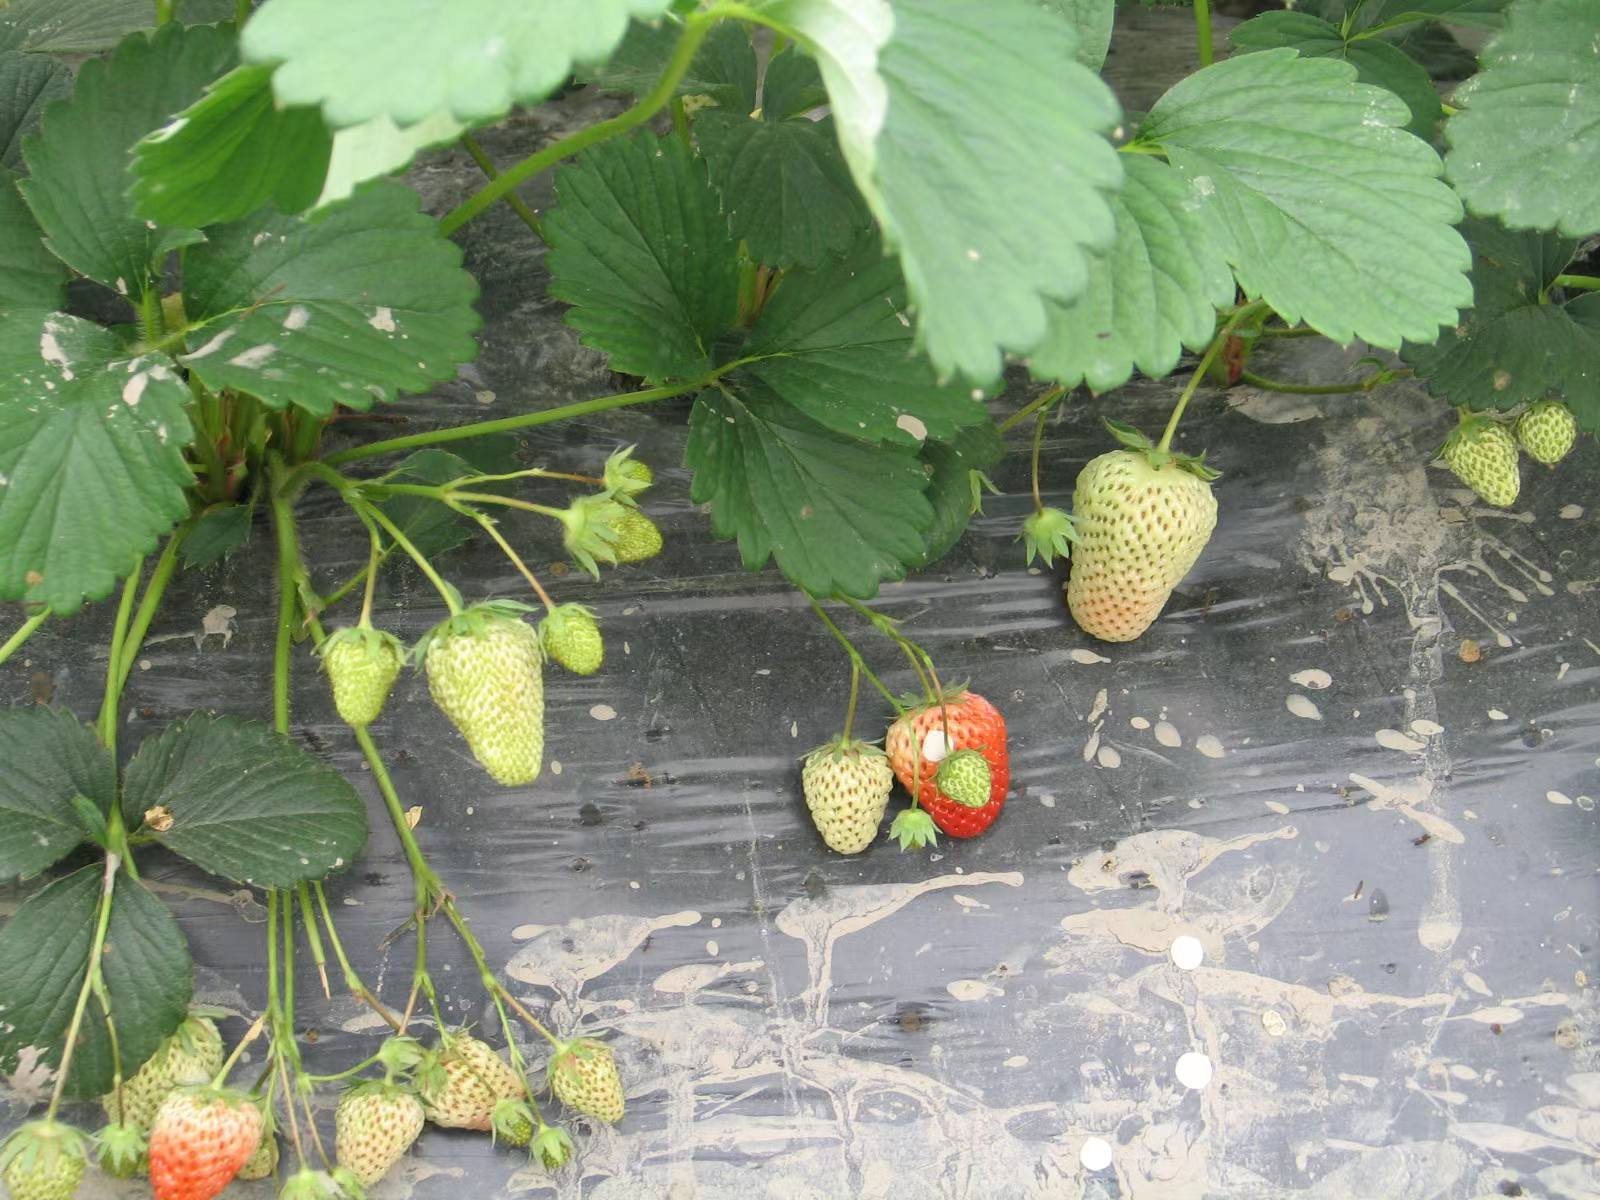StrawberryIrremovable: (1060, 444, 1221, 642), (879, 677, 1033, 845), (421, 603, 547, 787), (106, 1013, 224, 1150), (320, 1066, 430, 1192), (795, 734, 901, 858), (151, 1075, 263, 1192), (413, 1034, 533, 1134), (304, 620, 409, 732), (1439, 410, 1533, 508), (540, 1034, 629, 1128), (564, 494, 663, 566), (3, 1116, 82, 1197), (539, 610, 611, 676), (929, 750, 994, 814), (1517, 400, 1579, 464), (597, 450, 659, 492)
